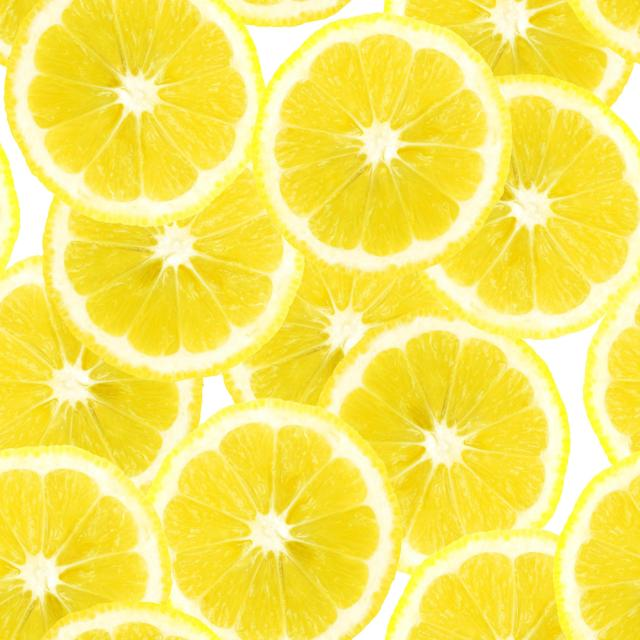lemon: (250, 10, 519, 275)
